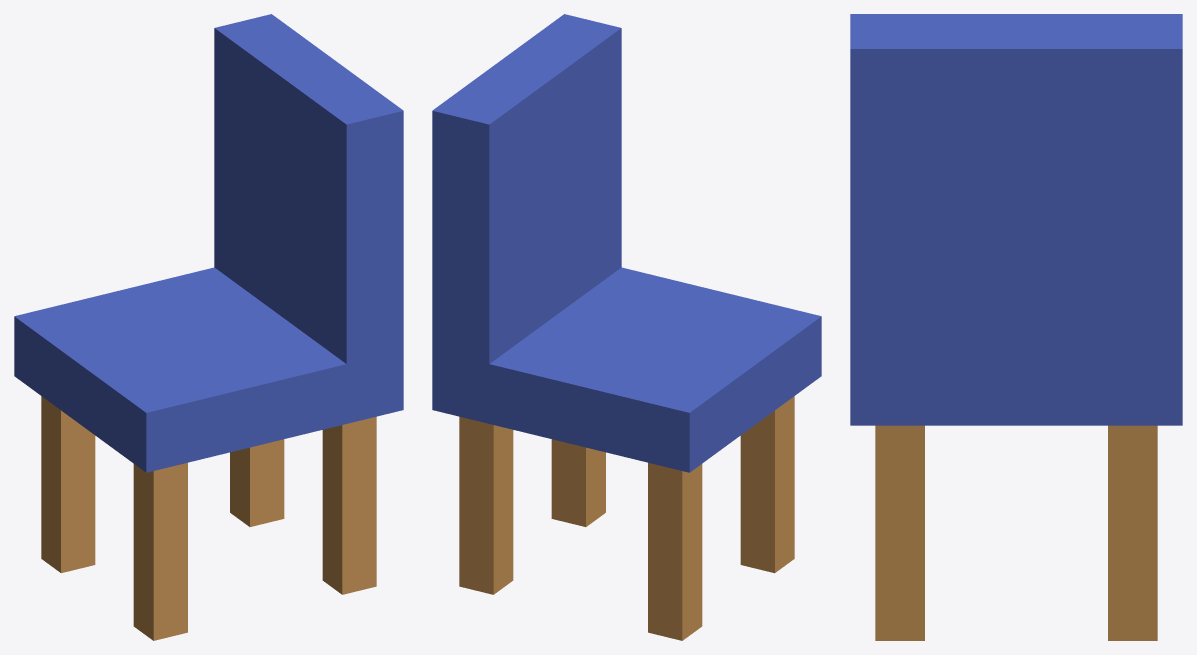
Rendered from chair.glb.
3 renders of one model, left to right at view 1: azimuth 30°, elevation 25°; view 2: azimuth 150°, elevation 25°; view 3: azimuth 270°, elevation 25°, orthographic. The views are drawn at different scales.
Parts seen in each view (by area): view 1: Box006, Box001, Box002, Box003, Box005, Box004; view 2: Box006, Box001, Box005, Box004, Box002, Box003; view 3: Box006, Box003, Box004.
Boxes of the visible parts, x1,y1,x2,y2 form: Box006: (214, 14, 403, 416); Box001: (14, 267, 374, 472); Box002: (133, 462, 187, 640); Box003: (322, 416, 376, 594); Box005: (41, 396, 95, 573); Box004: (230, 439, 284, 526); Box006: (432, 14, 621, 423); Box001: (461, 267, 821, 472); Box005: (648, 462, 702, 640); Box004: (459, 416, 513, 594); Box002: (740, 396, 794, 573); Box003: (551, 439, 605, 526); Box006: (850, 14, 1182, 425); Box003: (875, 425, 924, 640); Box004: (1108, 425, 1157, 640).
Bounding box in the file's own units: 0.5715 × 1.02 × 0.508.
